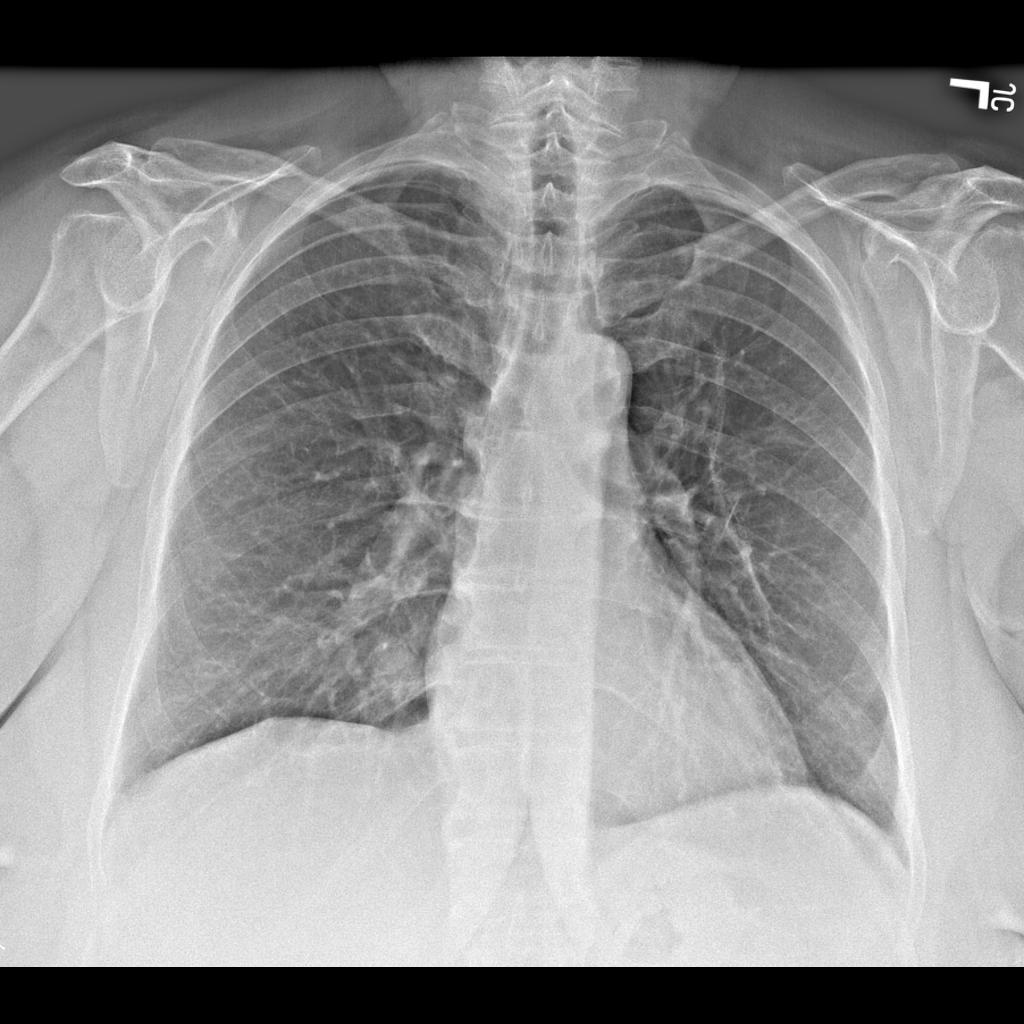Nodule: (363, 644, 414, 701)
